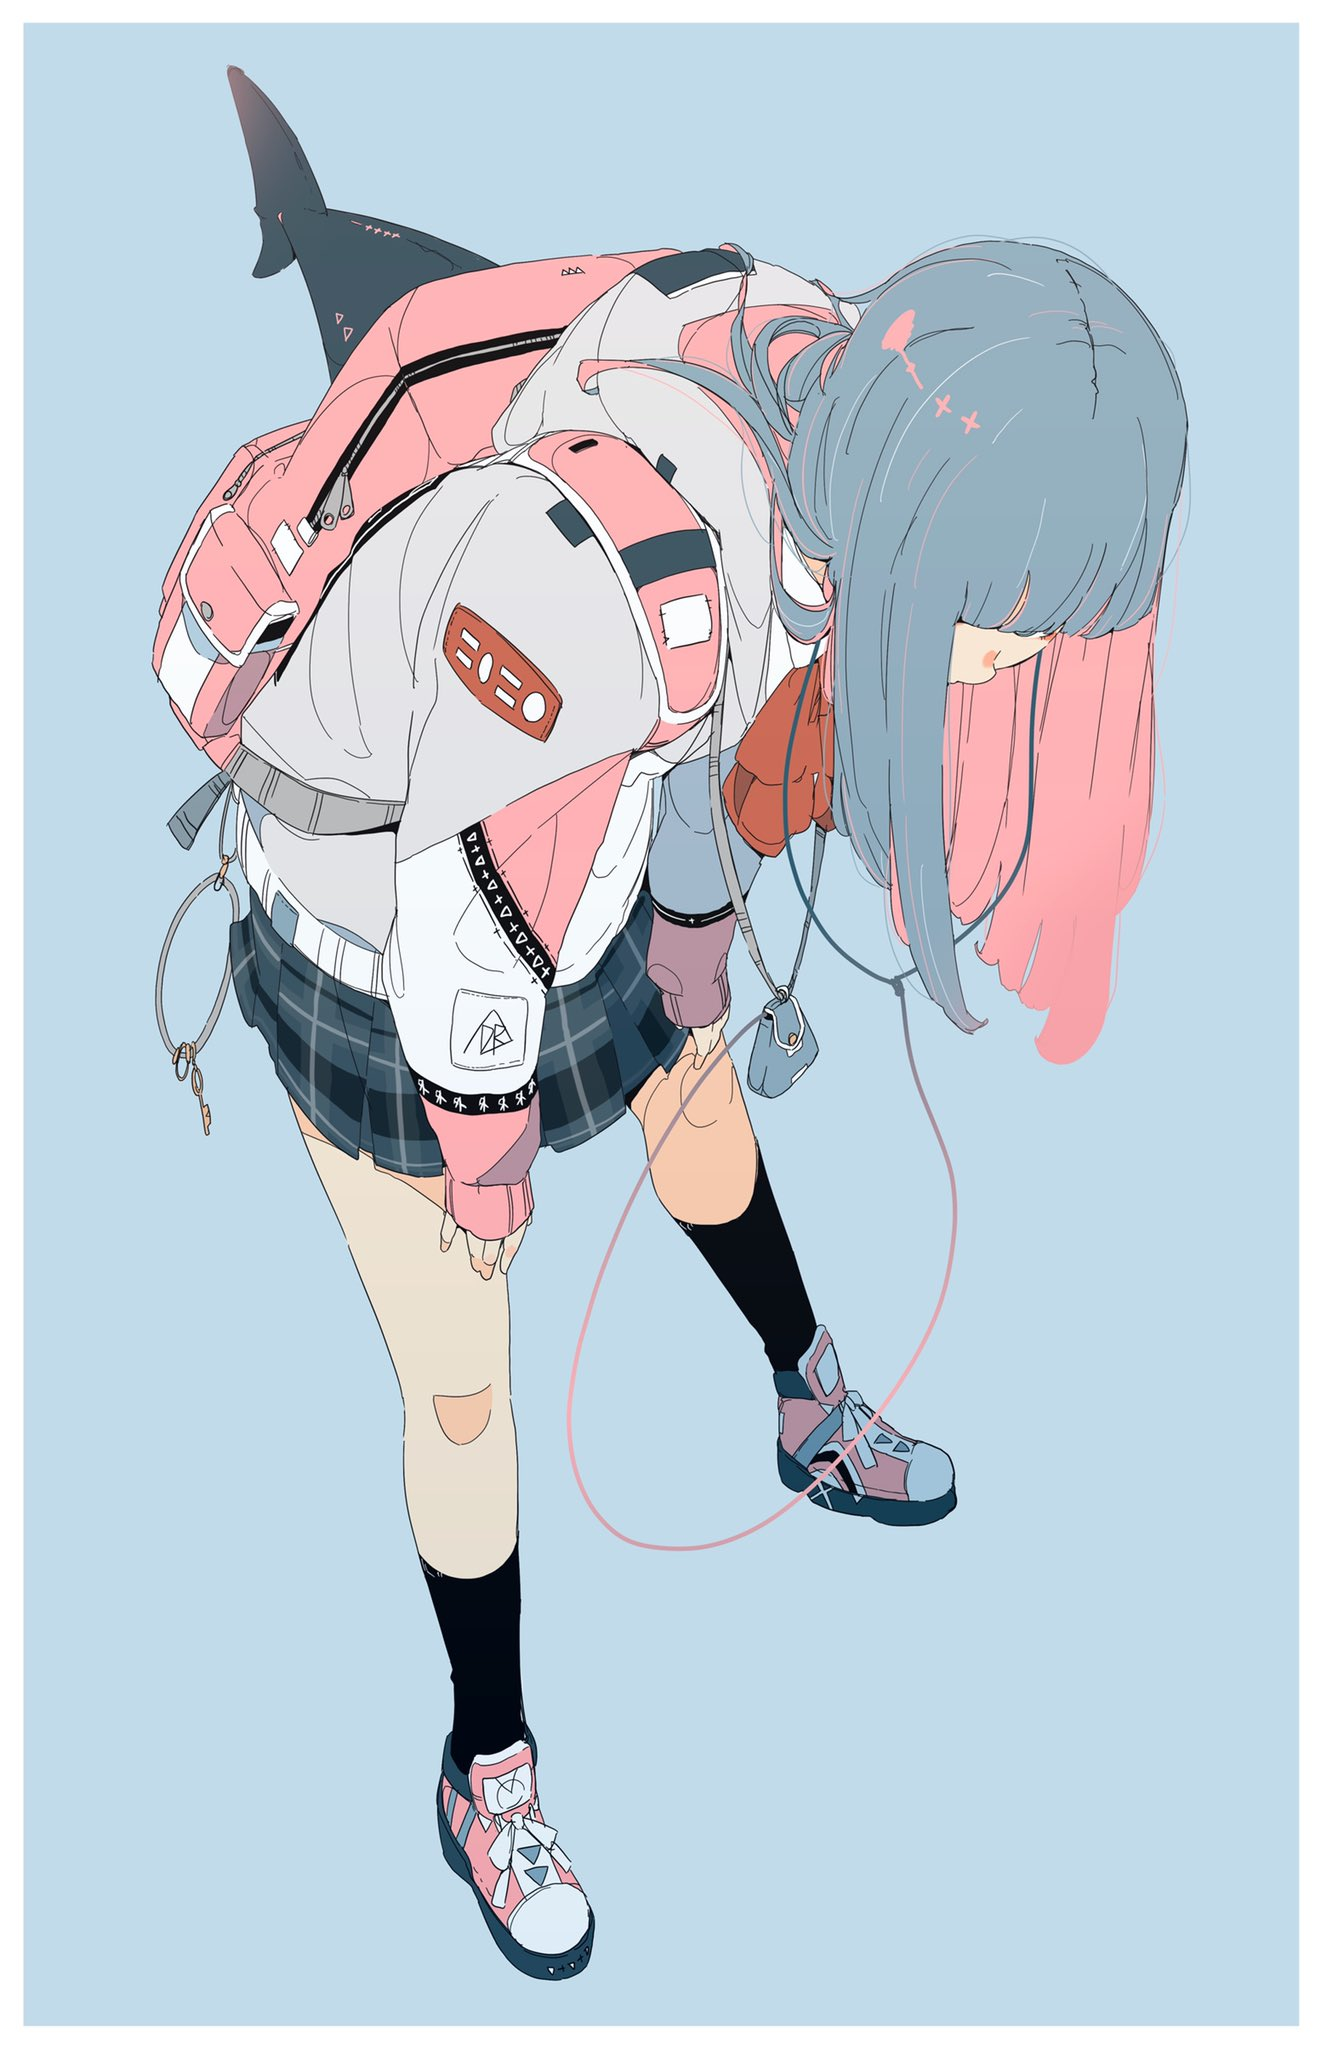p: (164, 66, 1186, 1991)
